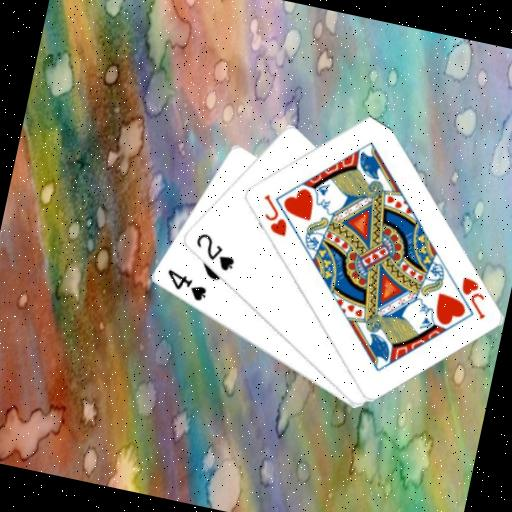2S: (187, 228, 241, 274)
4S: (159, 265, 211, 304)
JH: (253, 190, 295, 239), (451, 272, 493, 321)
